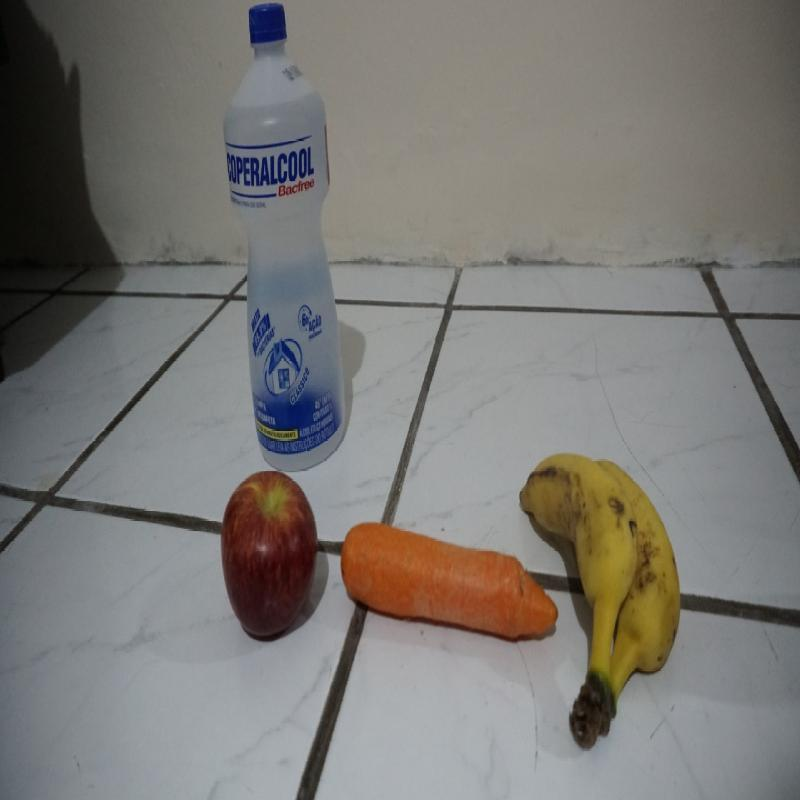Alcohol Bottle: (221, 4, 354, 472)
Apple: (218, 472, 320, 652)
Banana: (550, 438, 698, 761)
Carrot: (338, 519, 549, 689)
